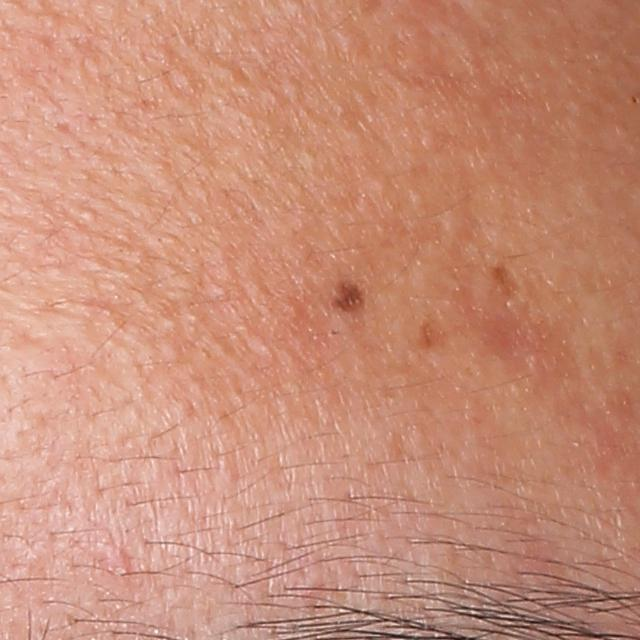atrophic_scar: (483, 259, 526, 304)
